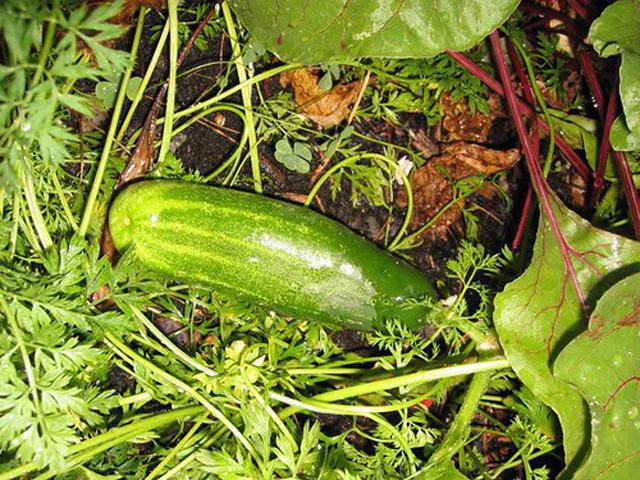cucumber: (113, 178, 438, 339)
